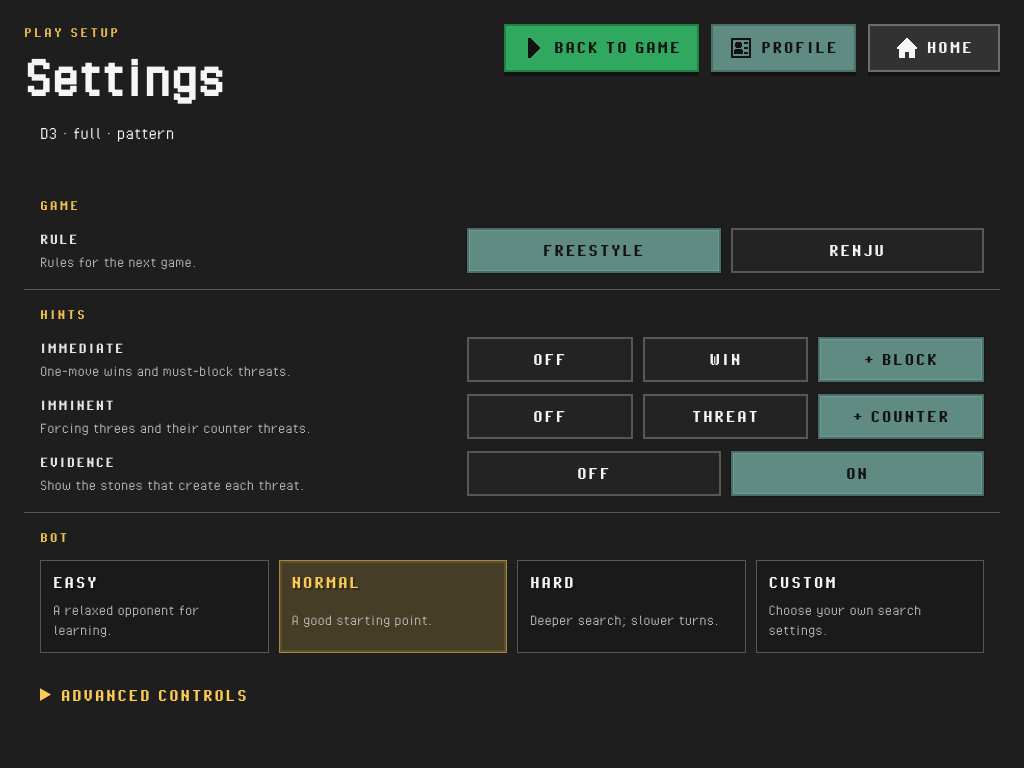
it: SettingsRoute › disables and clamps custom bot widths that are too slow for browser play
(page scrolled)
Click the button "Custom Choose your own search settings." at (870, 606), box 756,560 -> 984,653
(page scrolled)
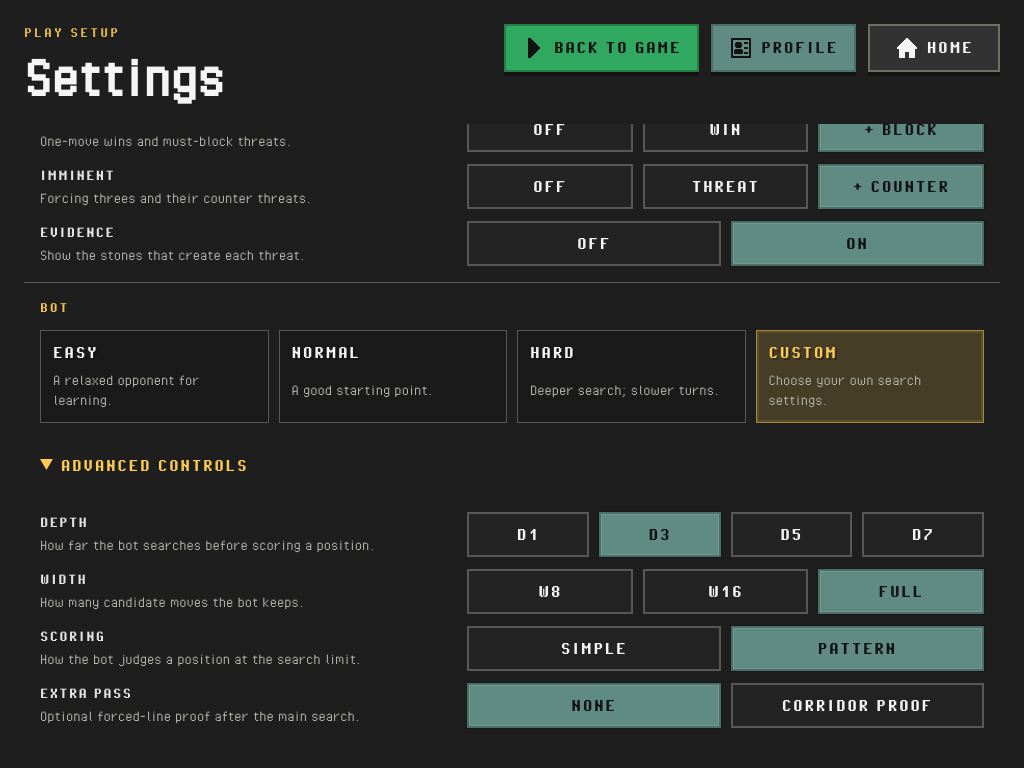
Click the button "D5" at (792, 534), box 731,512 -> 852,557
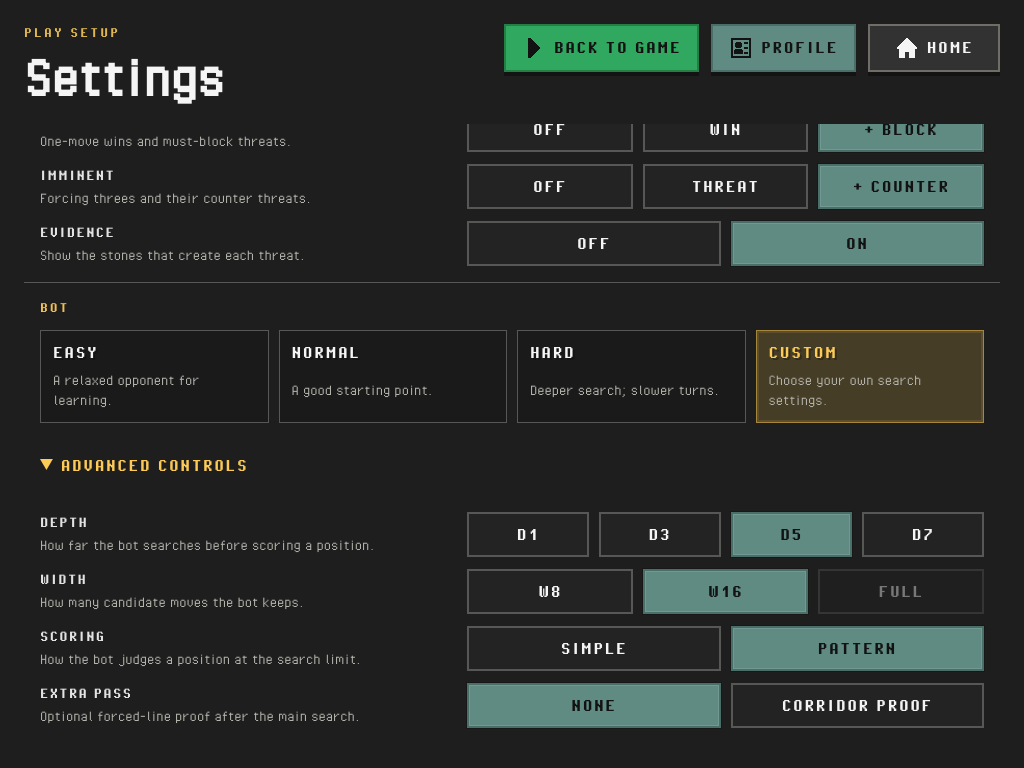
Now the button "full" is disabled, box 818,569 -> 984,614
Click the button "D7" at (923, 534), box 862,512 -> 984,557
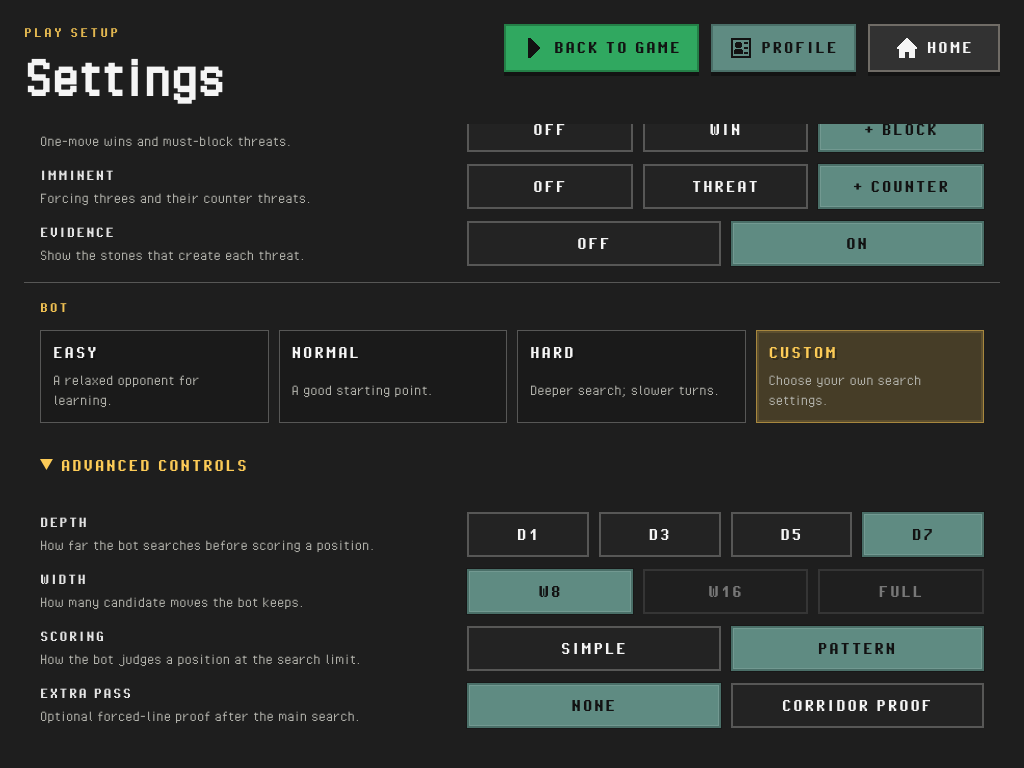
Now the button "full" is disabled, box 818,569 -> 984,614
Now the button "W16" is disabled, box 643,569 -> 808,614
